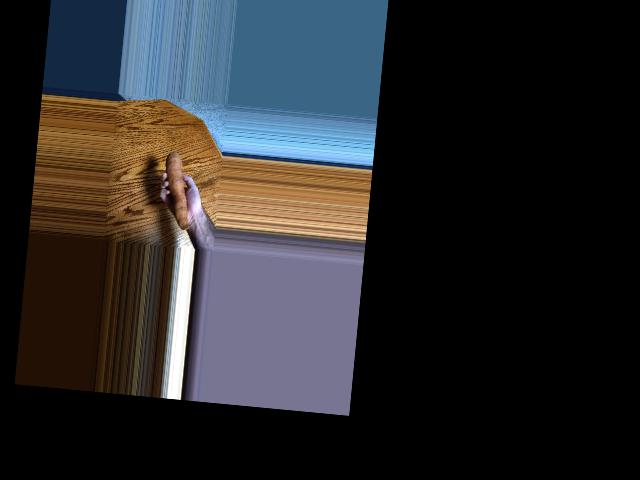sweet_potato: (158, 149, 193, 227)
